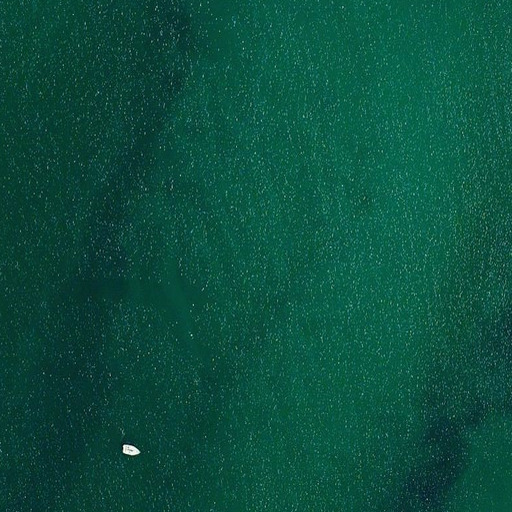ship: (119, 442, 143, 459)
